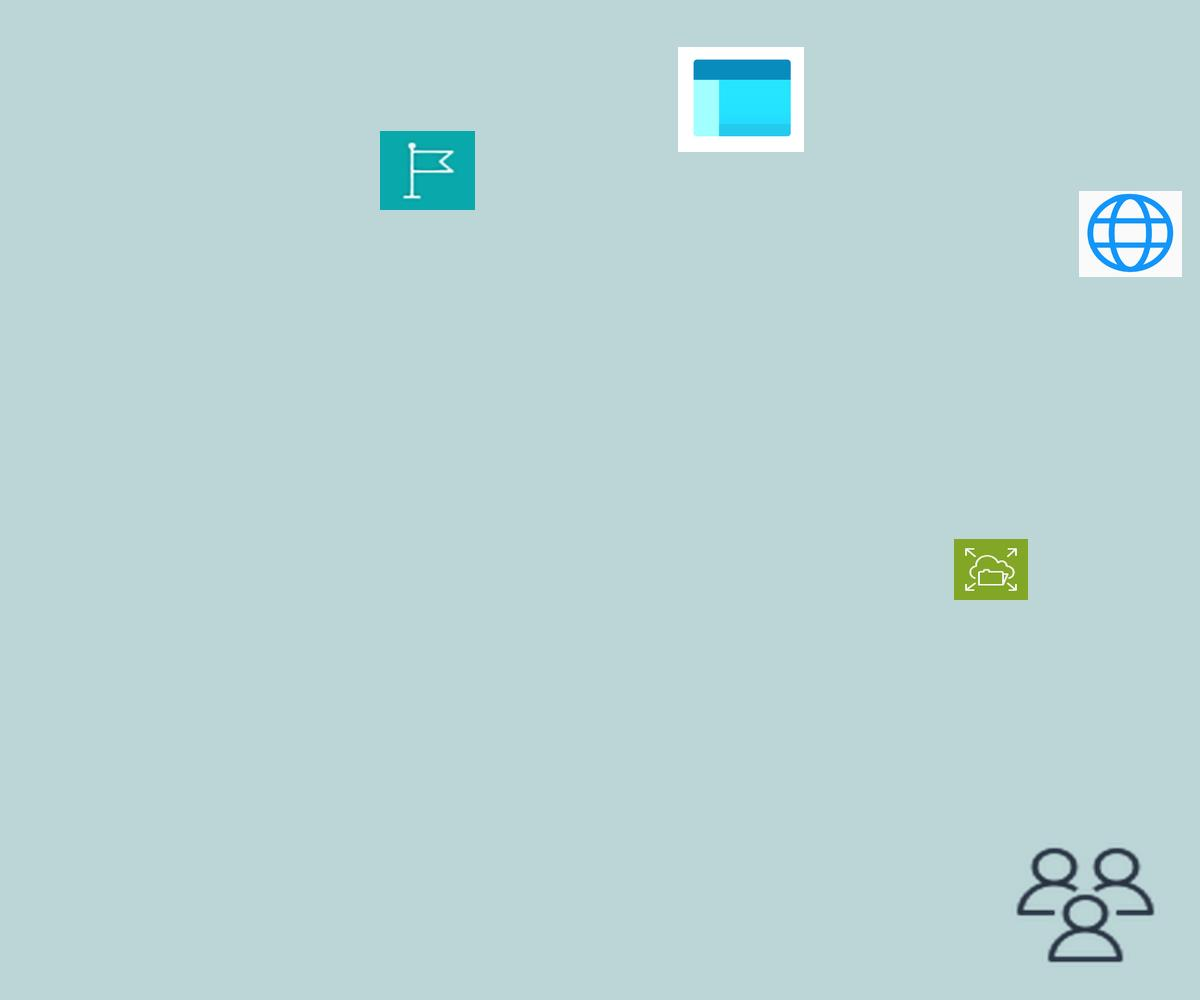AWS-EFS: (954, 539, 1028, 600)
AWS-Region: (380, 131, 475, 210)
AWS-Res_Users: (1011, 843, 1160, 967)
Azure_http: (1079, 191, 1182, 277)
Azure_management-portal: (678, 47, 804, 152)
